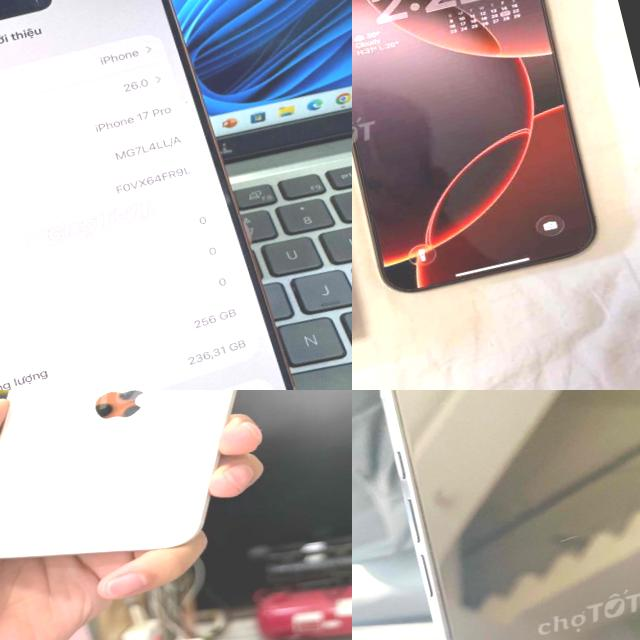gen_16: (352, 0, 618, 316), (383, 390, 640, 640)
gen_17: (0, 0, 330, 390)
gen_7_8: (0, 390, 336, 603)
scratch: (543, 506, 609, 572), (81, 390, 148, 429)
